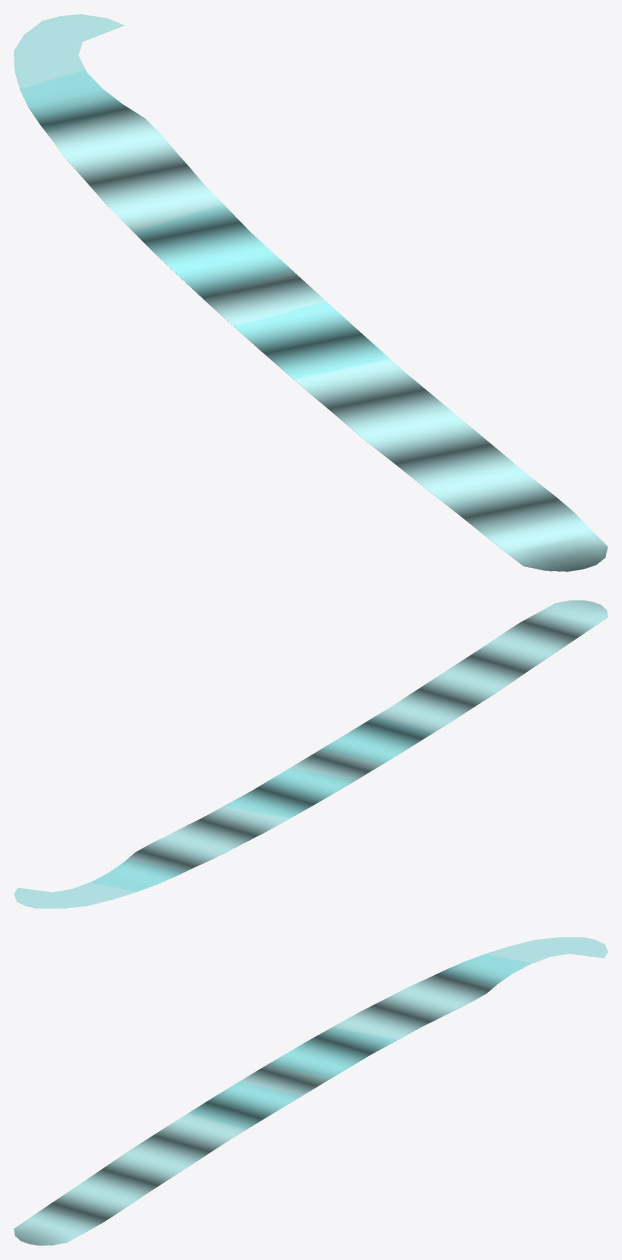
The model's file is Level 156.fbx.
The picture shows the model from 3 angles, top to bottom: view 1: azimuth 30°, elevation 25°; view 2: azimuth 150°, elevation 25°; view 3: azimuth 330°, elevation 25°; orthographic projection. The views are drawn at different scales.
Parts seen in each view (by area): view 1: pPlane3; view 2: pPlane3; view 3: pPlane3.
Boxes of the visible parts, box(x1,y1,x2,y2) form: pPlane3: box(14, 14, 607, 571); pPlane3: box(14, 600, 607, 908); pPlane3: box(14, 937, 607, 1245).
Size of what is drawn, in the model's own units: 250 by 0.3242 by 1187.
